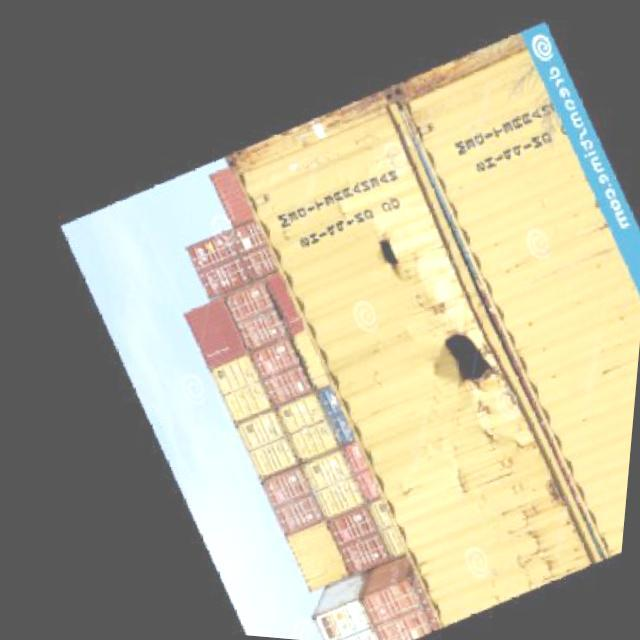hole: (427, 311, 514, 426), (361, 239, 422, 298)
rust: (458, 415, 593, 574)
